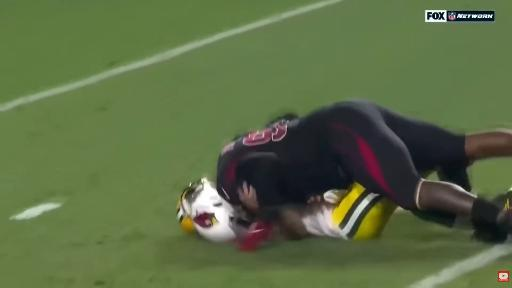Helmet: (178, 179, 242, 241), (177, 182, 197, 234)
Jersey: (217, 118, 347, 206), (303, 194, 347, 239)
Player: (217, 101, 511, 233), (278, 184, 396, 240), (280, 184, 396, 240)
